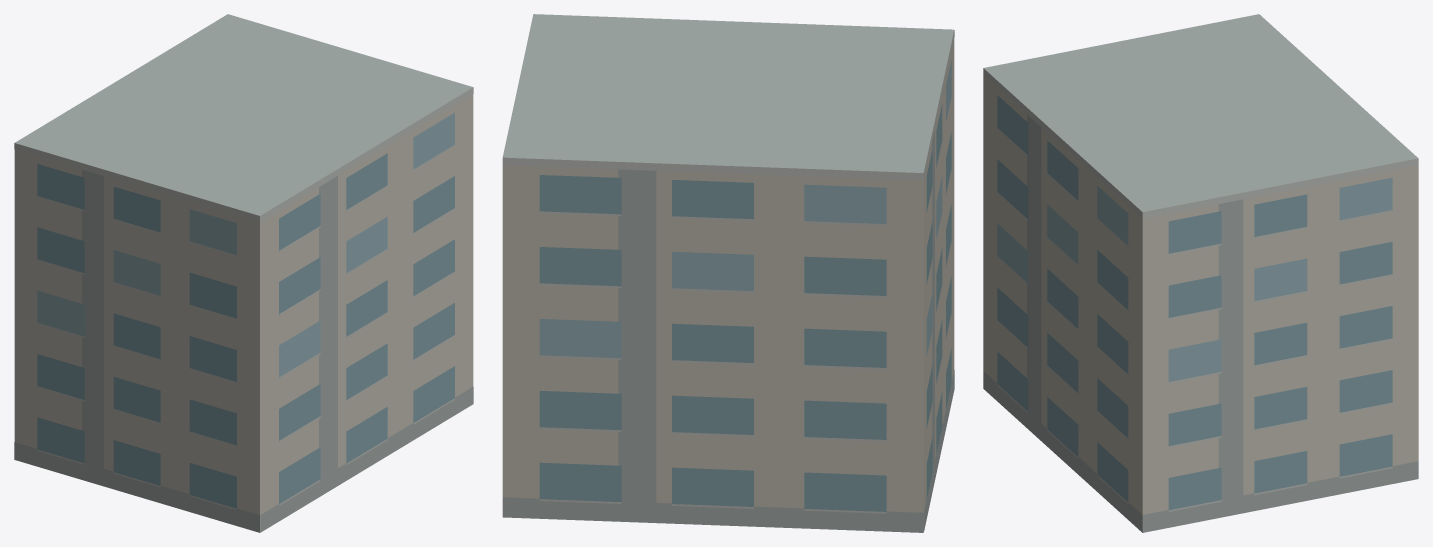
The model's file is survey-upis-32701882.glb.
3 renders of one model, left to right at view 1: azimuth 30°, elevation 25°; view 2: azimuth 150°, elevation 25°; view 3: azimuth 270°, elevation 25°, orthographic. The views are drawn at different scales.
Visible parts, largest first — view 1: survey-upis-32701882.tmp; view 2: survey-upis-32701882.tmp; view 3: survey-upis-32701882.tmp.
Part boxes in pixels (<box>): survey-upis-32701882.tmp: <box>14,14,473,532</box>; survey-upis-32701882.tmp: <box>502,14,954,532</box>; survey-upis-32701882.tmp: <box>983,14,1418,532</box>.
Size of the model in its own units: 15.39 by 11.6 by 14.28.
